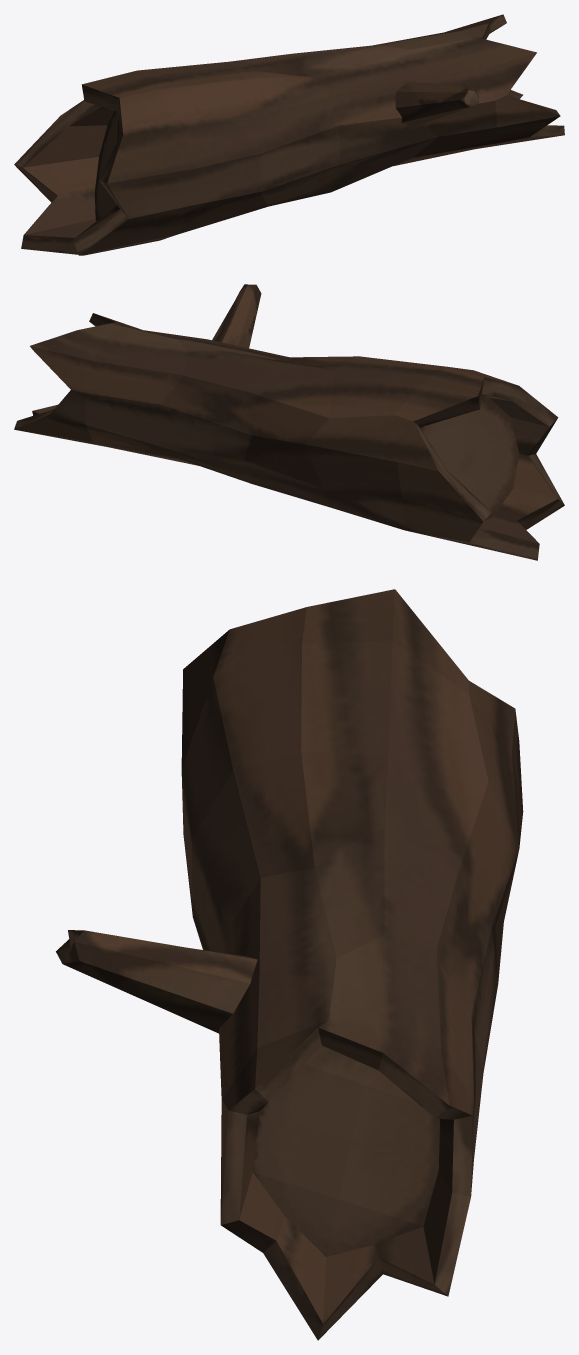
File: TreeTrunk_Geo.fbx
3 renders of one model, top to bottom at view 1: azimuth 30°, elevation 25°; view 2: azimuth 150°, elevation 25°; view 3: azimuth 270°, elevation 25°, orthographic. The views are drawn at different scales.
Visible parts, largest first — view 1: TreeTrunk_Geo; view 2: TreeTrunk_Geo; view 3: TreeTrunk_Geo.
Part boxes in pixels (x1,y1,x2,y2): TreeTrunk_Geo: (14,14,564,255); TreeTrunk_Geo: (14,284,564,560); TreeTrunk_Geo: (56,589,523,1340).
Bounding box in the file's own units: 556 × 156 × 215.
